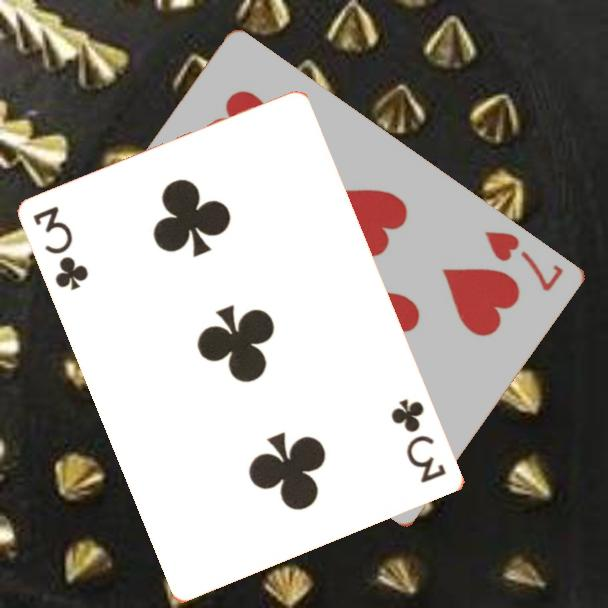c03: (387, 395, 450, 487), (30, 203, 92, 294)
h07: (481, 227, 568, 295)
